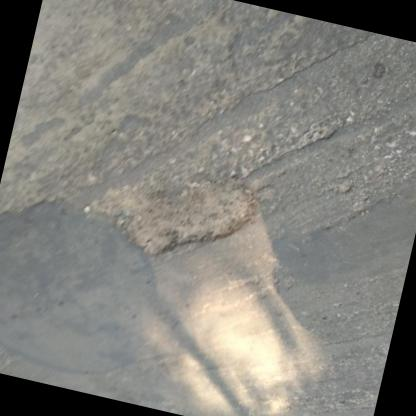pothole: (77, 147, 260, 279)
